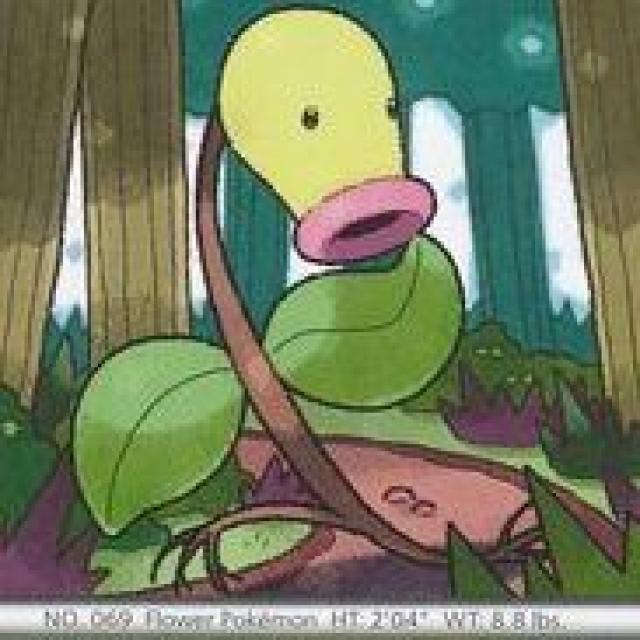Bellsprout: (138, 56, 449, 550)
